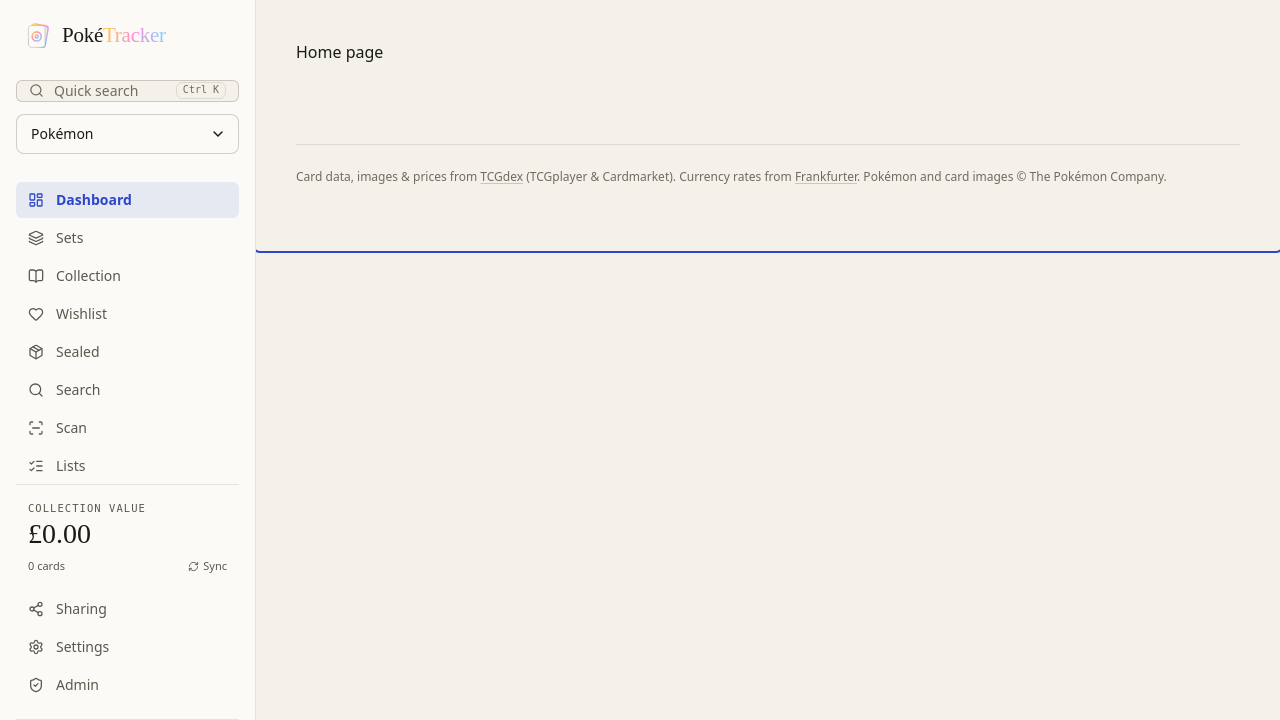
Scenario: App › navigates between pages through the layout
Step 1. Click the link "Wishlist" → point(68, 313), box [28,304,107,322]
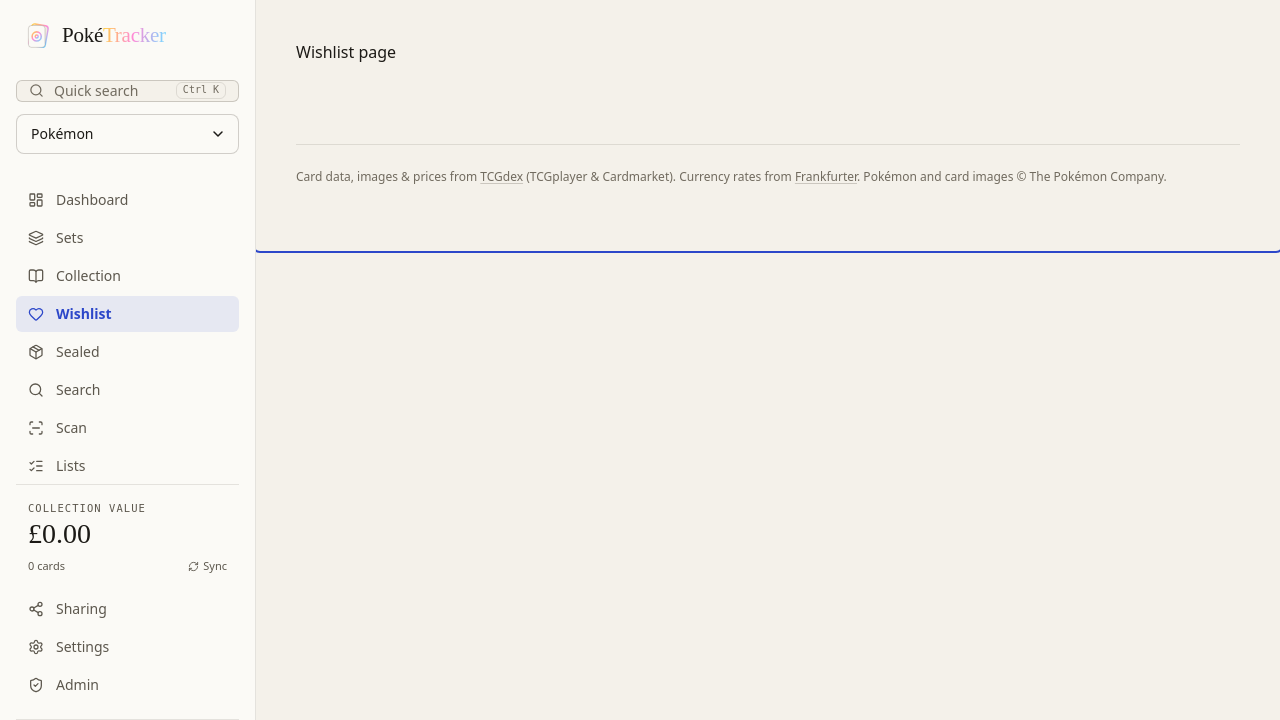
Check: the text "Wishlist page" is shown, box [296,41,396,63]
